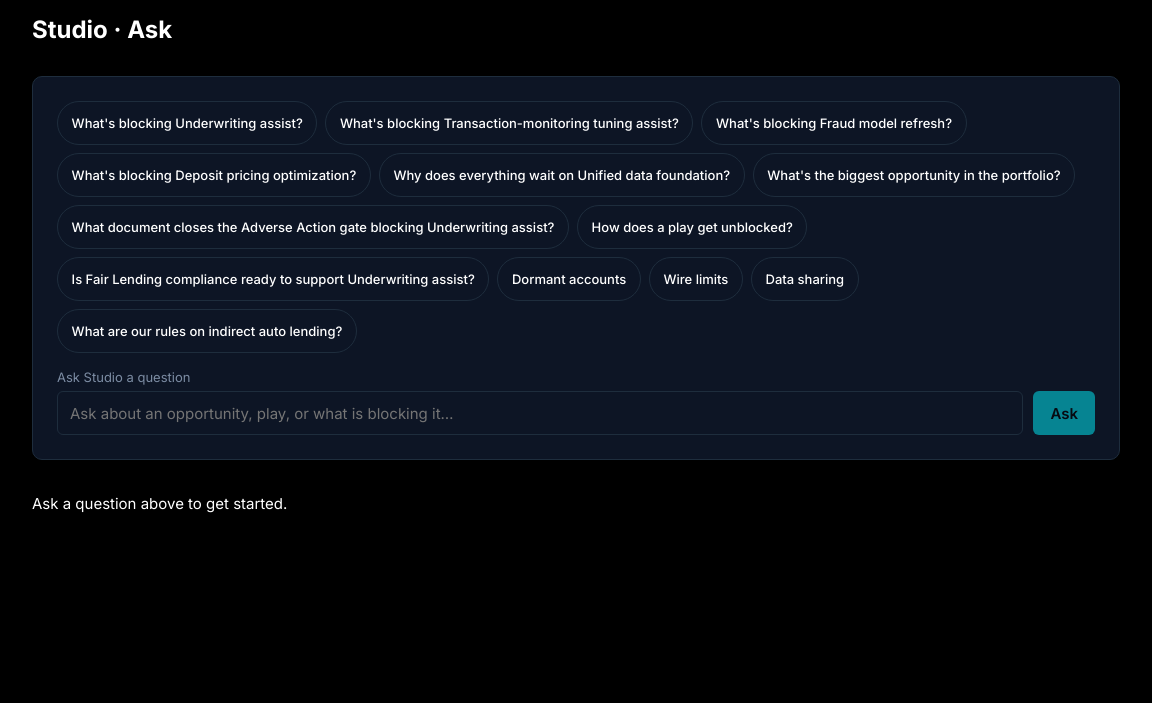
Test case: Ask Studio (amendment A20) — a scripted deep link fires the existing DeepLinkRequest path end to end, from the response canvas's own Artifacts list › the "Detail →" action label does NOT vary with the entry's authored deepLinks[].label (Amendment A20.1)
Type "What's blocking Underwriting assist?" into the field labelled "Ask Studio a question" at (540, 413), box 57,391 -> 1023,435
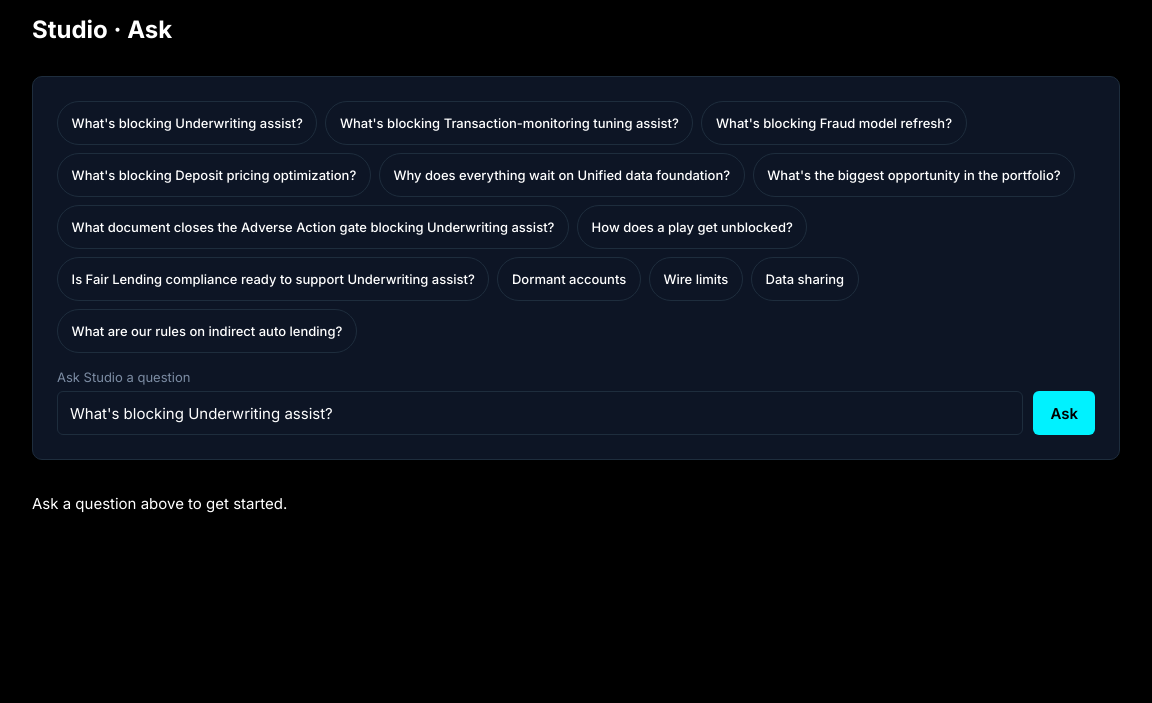
Click the button "Ask" at (1064, 413), box 1033,391 -> 1095,435
Wait 800 ms
(page scrolled)
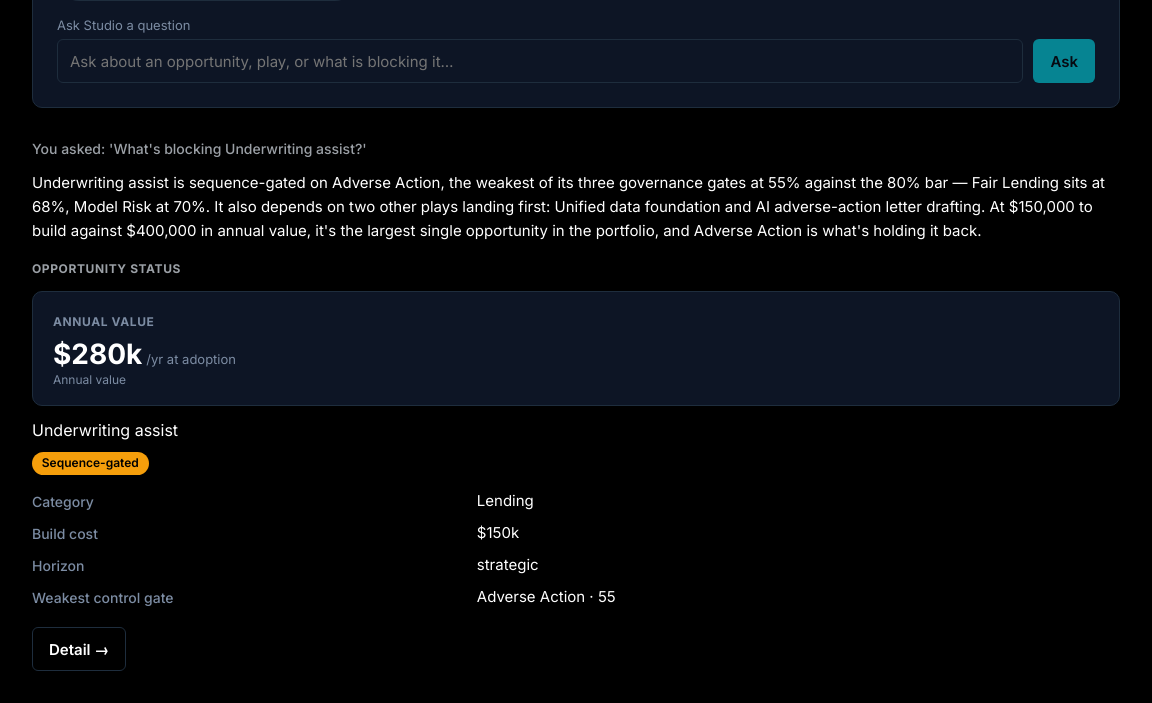
Expected: the button "Detail →" is shown, 32,627 -> 126,671
